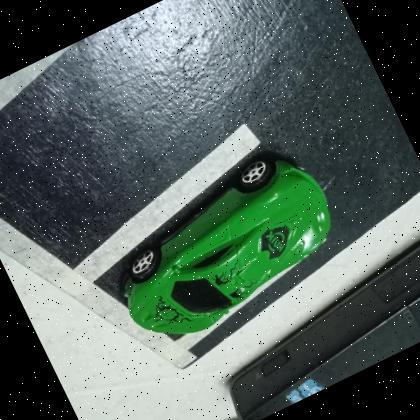Car: (92, 136, 356, 357)
